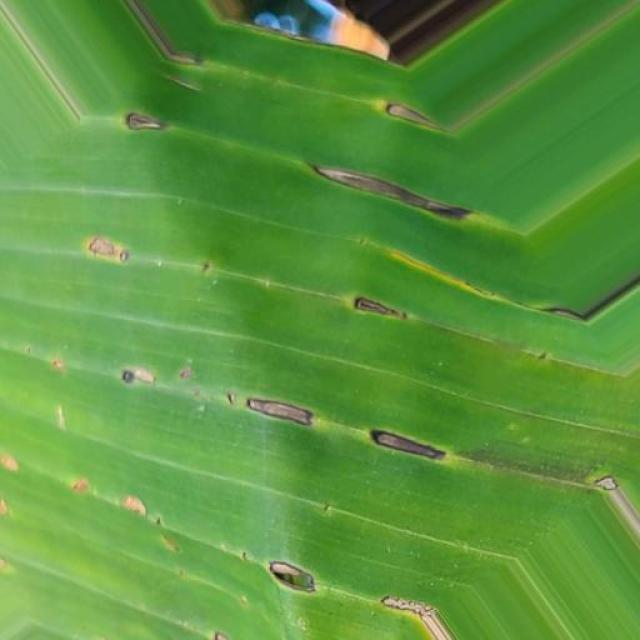Black_rot: (31, 20, 598, 640)
